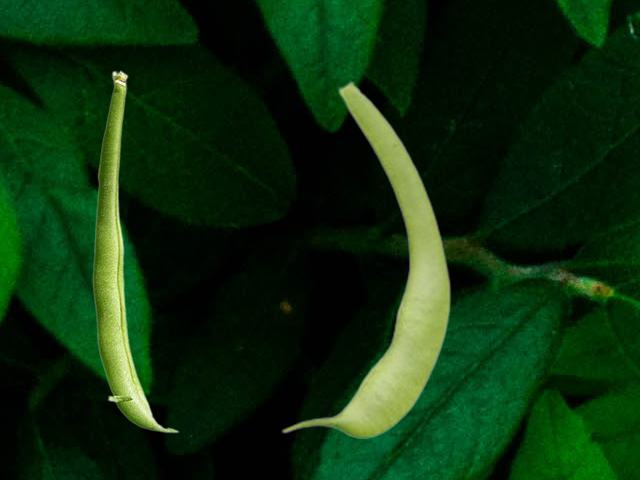french_bean: (280, 79, 451, 437), (92, 70, 179, 432)
